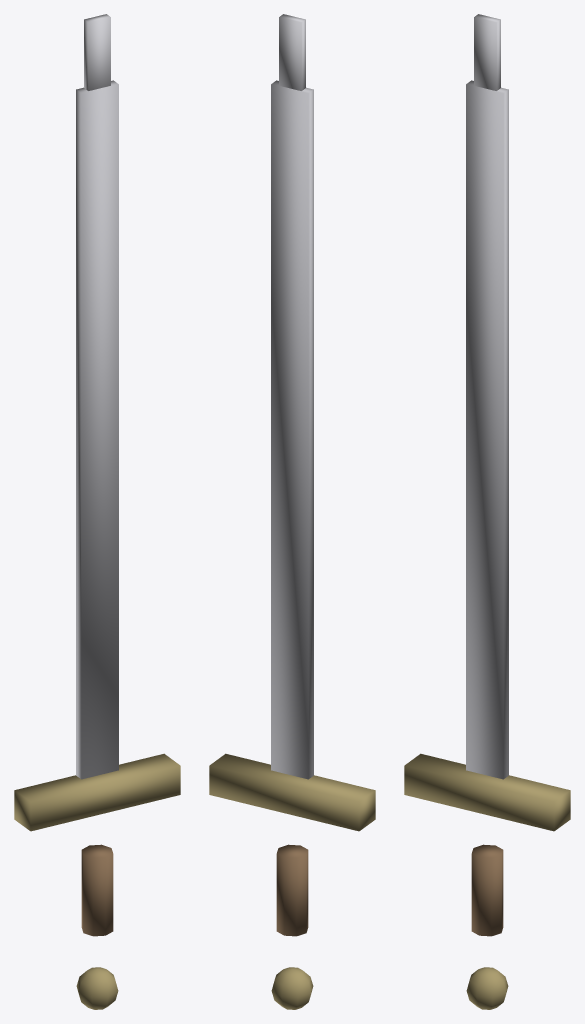
The model's file is sword.glb.
The picture shows the model from 3 angles, left to right: view 1: azimuth 30°, elevation 25°; view 2: azimuth 150°, elevation 25°; view 3: azimuth 330°, elevation 25°; orthographic projection.
Parts seen in each view (by area): view 1: Sword; view 2: Sword; view 3: Sword.
Part boxes in pixels (box(x1,y1,x2,y2)): Sword: box(14, 14, 180, 1009); Sword: box(209, 14, 375, 1009); Sword: box(404, 14, 570, 1009).
Bounding box in the file's own units: 0.16 × 1.01 × 0.04.
